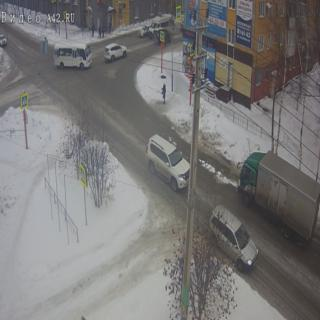large-vehicle: (239, 150, 320, 250), (54, 44, 92, 70), (149, 18, 174, 38)
small-vehicle: (211, 207, 259, 274), (146, 133, 192, 195), (104, 42, 127, 61), (153, 28, 173, 44), (140, 24, 152, 36), (0, 33, 8, 46)
